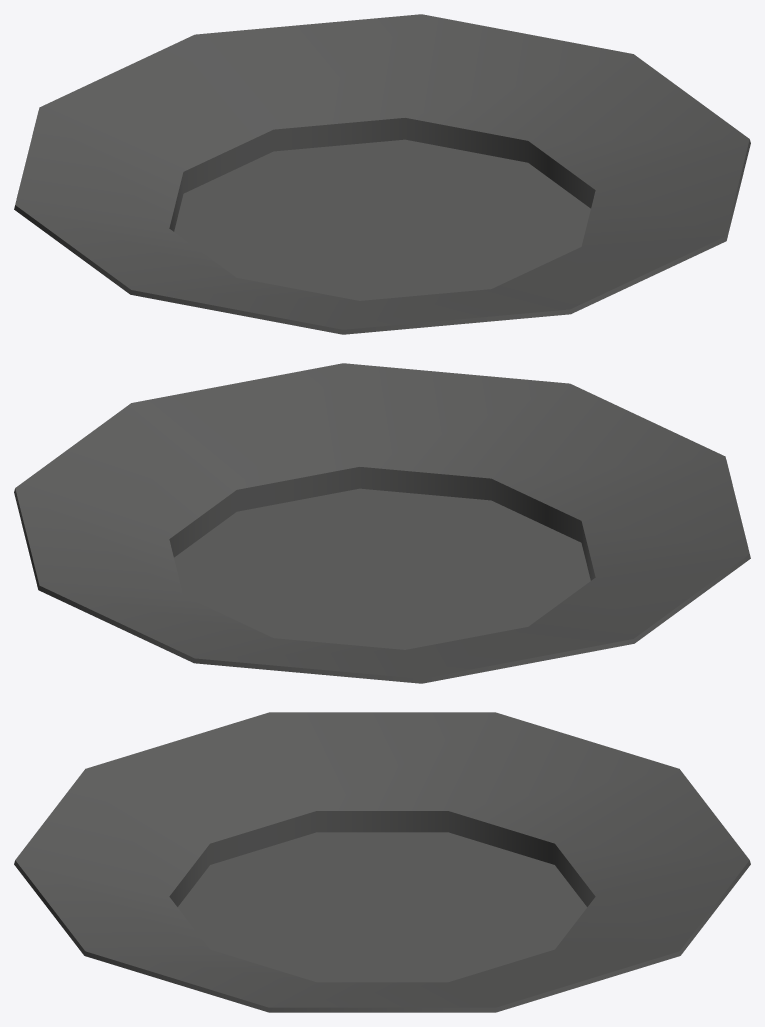
The model's file is Tarelka.fbx.
The picture shows the model from 3 angles, top to bottom: view 1: azimuth 30°, elevation 25°; view 2: azimuth 150°, elevation 25°; view 3: azimuth 270°, elevation 25°; orthographic projection. The views are drawn at different scales.
Parts seen in each view (by area): view 1: Kazan; view 2: Kazan; view 3: Kazan.
Part boxes in pixels (bbox=[...]): Kazan: bbox=[14, 14, 750, 334]; Kazan: bbox=[14, 363, 750, 683]; Kazan: bbox=[14, 712, 750, 1012].
Bounding box in the file's own units: 2.16 × 0.2067 × 2.27.
